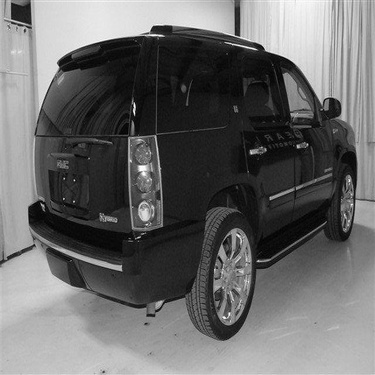car: (19, 15, 362, 346)
